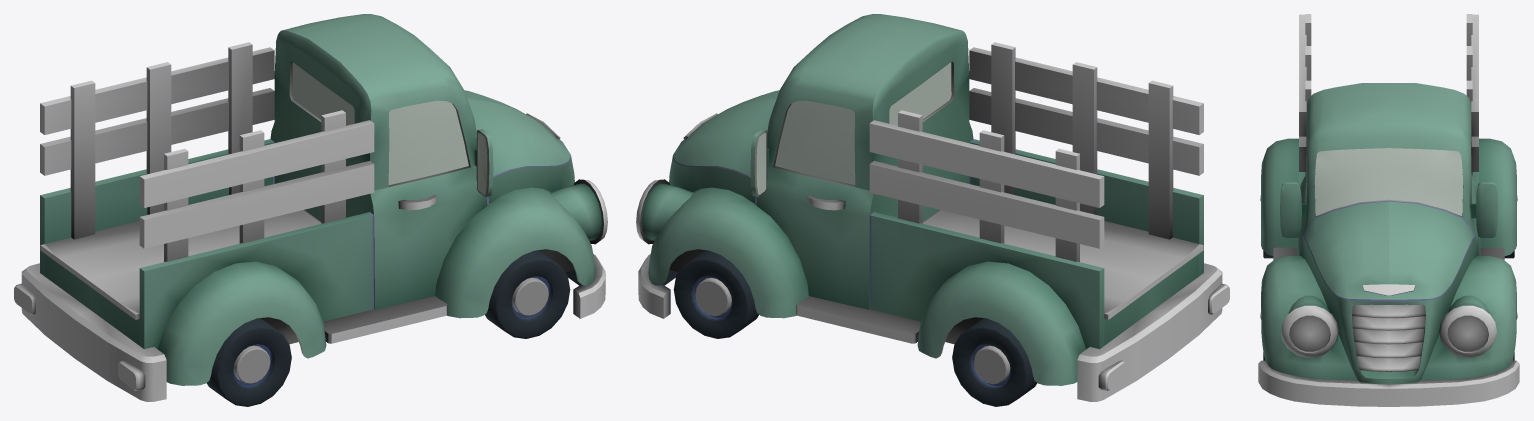
Rendered from Order_Board_Truck.fbx.
3 views of the same model, side by side, from view 1: azimuth 30°, elevation 25°; view 2: azimuth 150°, elevation 25°; view 3: azimuth 270°, elevation 25° (orthographic). The views are drawn at different scales.
Parts seen in each view (by area): view 1: Order_Board_Truck; view 2: Order_Board_Truck; view 3: Order_Board_Truck.
Boxes of the visible parts, box(x1,y1,x2,y2) form: Order_Board_Truck: box(14, 14, 607, 406); Order_Board_Truck: box(636, 14, 1229, 406); Order_Board_Truck: box(1258, 14, 1519, 406).
Bounding box in the file's own units: 6.23 × 3.29 × 3.33.
